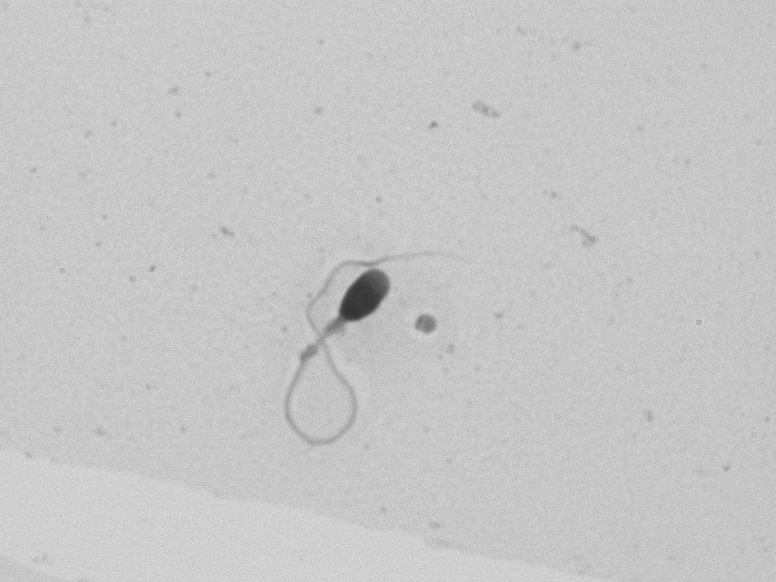Abnormal: (203, 205, 482, 466)
